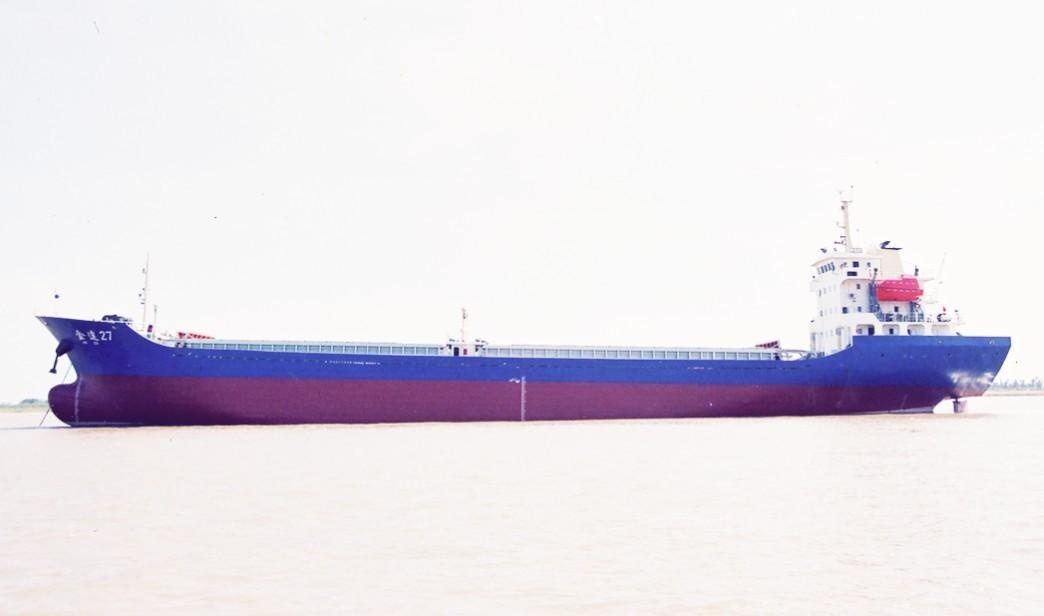Cargoship: (34, 196, 1015, 427)
